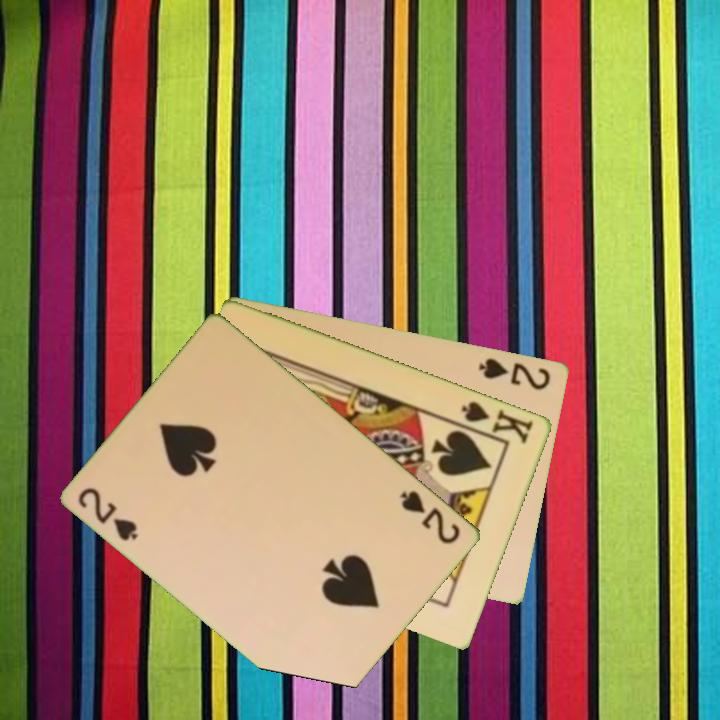2s: (396, 486, 464, 547), (75, 483, 142, 544), (475, 354, 554, 393)
Ks: (458, 397, 537, 447)
